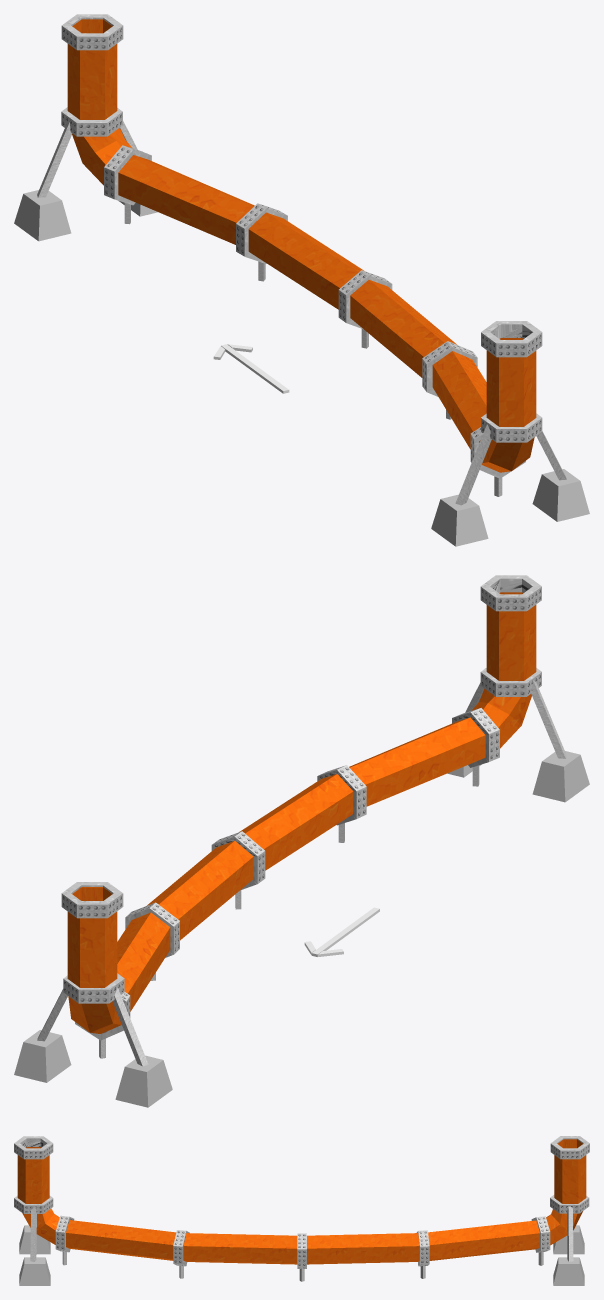
The model's file is PumpSuperLong.obj.
3 views of the same model, one above another, from view 1: azimuth 30°, elevation 25°; view 2: azimuth 150°, elevation 25°; view 3: azimuth 270°, elevation 25° (orthographic). The views are drawn at different scales.
Parts seen in each view (by area): view 1: MainTube_Circle.002, ConcreteSupport_Cube.006, SupportLeg2_Cylinder.001, Band2_Circle.003, Band5_Circle.003, Band6_Circle.003, Band4_Circle.003, Band1_Circle.003, Band7.001_Circle.001, Band7_Circle.003, Band_Circle.003, Cube.001_Cube.008; view 2: MainTube_Circle.002, ConcreteSupport_Cube.006, SupportLeg2_Cylinder.001, Band2_Circle.003, Band5_Circle.003, Band3_Circle.003, Band6_Circle.003, Band1_Circle.003, Band_Circle.003, Band7_Circle.003, Band7.001_Circle.001, Cube.001_Cube.008; view 3: MainTube_Circle.002, ConcreteSupport_Cube.006, Band2_Circle.003, SupportLeg2_Cylinder.001, Band5_Circle.003, Band3_Circle.003, Band1_Circle.003, Band4_Circle.003, Band_Circle.003, Band6_Circle.003, Band7.001_Circle.001, Band7_Circle.003.
Boxes of the visible parts, x1,y1,x2,y2 form: MainTube_Circle.002: (67,19,536,472); ConcreteSupport_Cube.006: (14,190,589,546); SupportLeg2_Cylinder.001: (37,121,566,505); Band2_Circle.003: (481,321,542,357); Band5_Circle.003: (61,14,123,50); Band6_Circle.003: (61,107,122,136); Band4_Circle.003: (104,145,151,205); Band1_Circle.003: (481,413,542,442); Band7.001_Circle.001: (236,203,287,263); Band7_Circle.003: (338,270,392,329); Band_Circle.003: (422,341,477,396); Cube.001_Cube.008: (213,344,289,393); MainTube_Circle.002: (67,592,536,1033); ConcreteSupport_Cube.006: (14,751,589,1107); SupportLeg2_Cylinder.001: (37,680,566,1066); Band2_Circle.003: (480,575,541,611); Band5_Circle.003: (61,882,123,918); Band3_Circle.003: (452,708,499,767); Band6_Circle.003: (63,973,124,1003); Band1_Circle.003: (480,668,541,696); Band_Circle.003: (317,765,366,825); Band7_Circle.003: (211,831,265,890); Band7.001_Circle.001: (125,902,179,957); Cube.001_Cube.008: (304,907,379,956); MainTube_Circle.002: (17,1139,586,1264); ConcreteSupport_Cube.006: (19,1225,584,1285); Band2_Circle.003: (14,1136,53,1159); SupportLeg2_Cylinder.001: (30,1206,573,1261); Band5_Circle.003: (550,1136,589,1159); Band3_Circle.003: (55,1215,74,1252); Band1_Circle.003: (14,1195,53,1213); Band4_Circle.003: (531,1216,550,1252); Band_Circle.003: (173,1230,189,1266); Band6_Circle.003: (550,1195,589,1213); Band7.001_Circle.001: (416,1230,429,1266); Band7_Circle.003: (297,1233,306,1268).
Bounding box in the file's own units: 2.54 × 3 × 12.88.
Materials: 5 (3 with a texture image).
